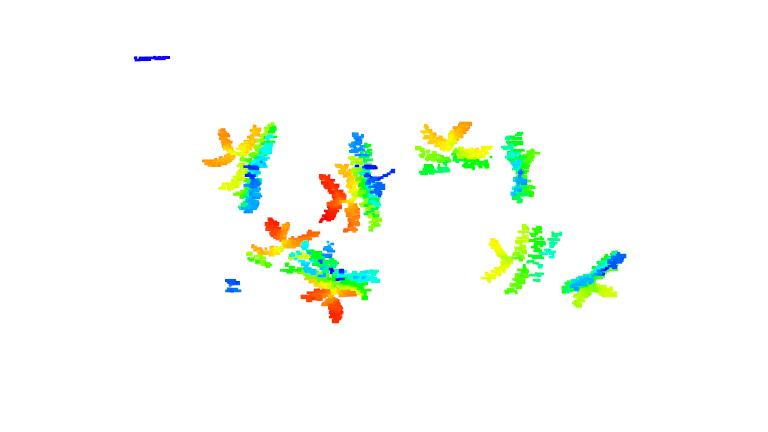chickpea: (199, 118, 283, 212), (314, 129, 392, 229), (480, 219, 566, 298), (299, 248, 380, 326), (414, 114, 495, 177), (560, 249, 630, 313), (243, 215, 321, 272), (498, 126, 545, 206)
